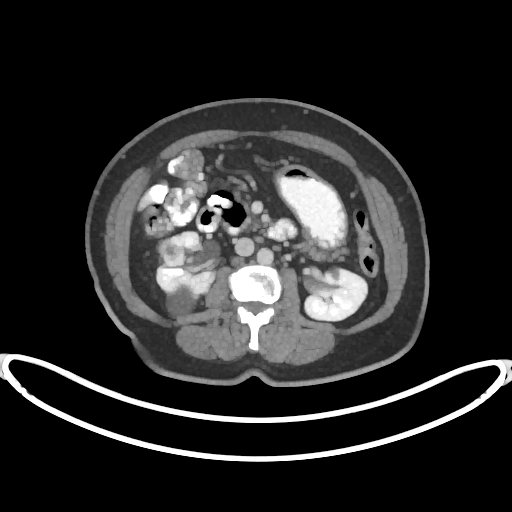Lesion: (161, 284, 197, 316)
